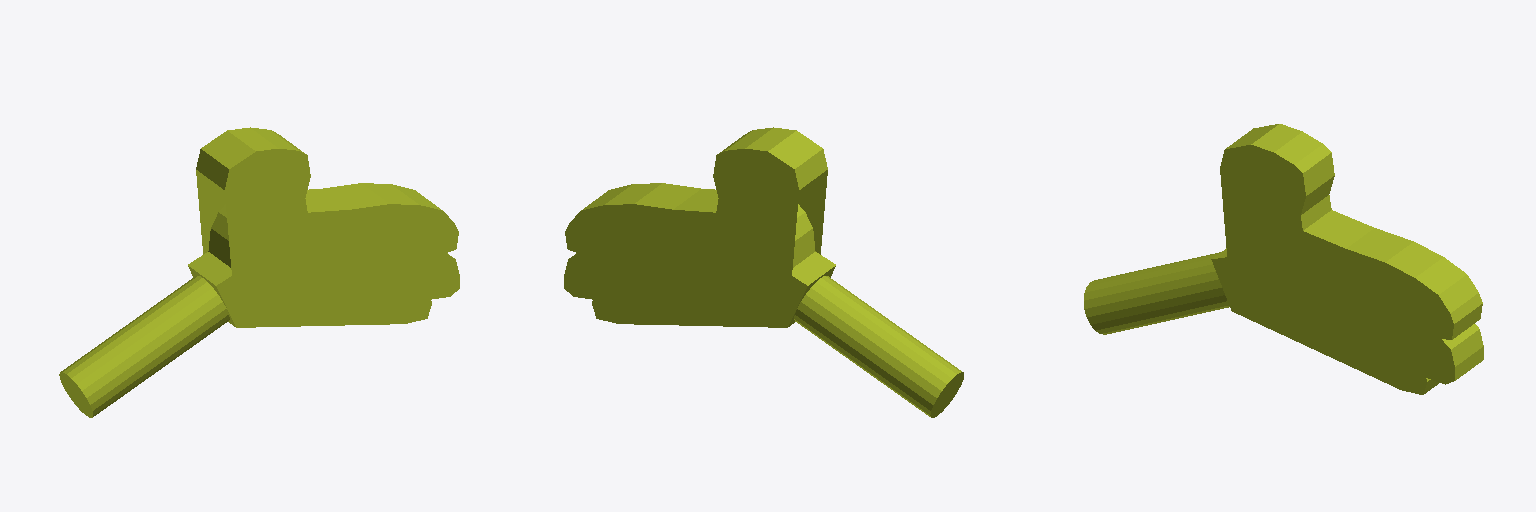
The model's file is right_hand.obj.
3 renders of one model, left to right at view 1: azimuth 30°, elevation 25°; view 2: azimuth 150°, elevation 25°; view 3: azimuth 330°, elevation 25°, orthographic.
Visible parts, largest first — view 1: right_hand:right_hand; view 2: right_hand:right_hand; view 3: right_hand:right_hand.
Boxes of the visible parts, <box> form: right_hand:right_hand: <box>59,127,459,417</box>; right_hand:right_hand: <box>564,127,963,417</box>; right_hand:right_hand: <box>1084,124,1483,394</box>.
Size of the model in its own units: 4.08 by 2.44 by 0.5358.